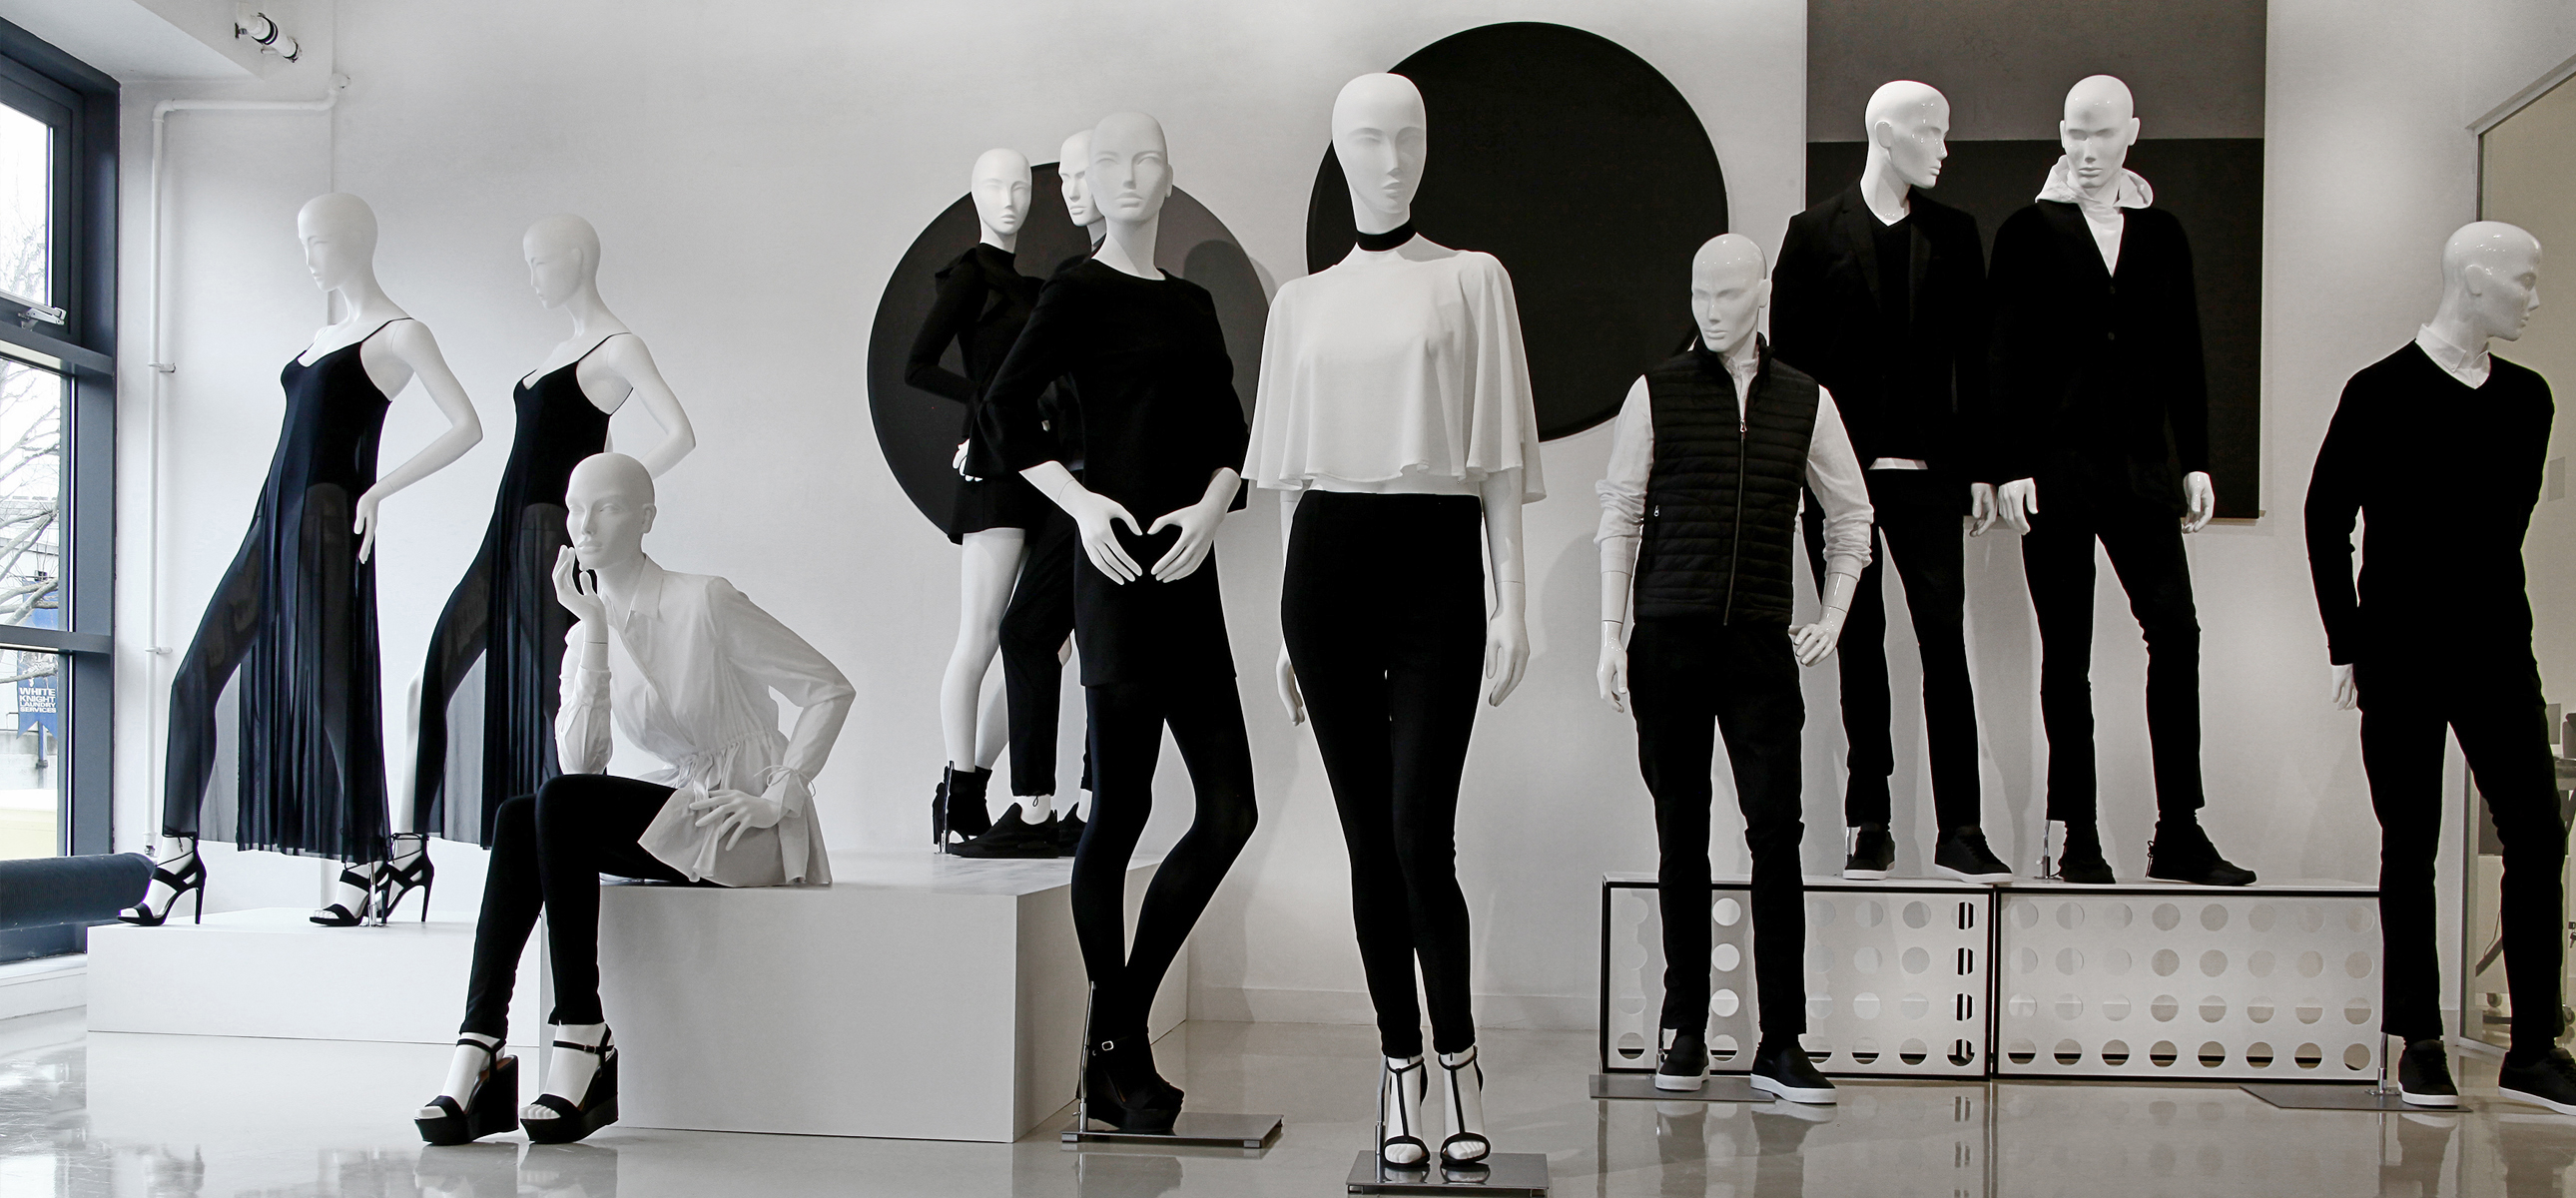person-like: (1228, 54, 1545, 1176), (405, 442, 863, 1154), (969, 88, 1276, 1139), (108, 178, 490, 941), (1582, 219, 1899, 1117), (2293, 212, 2576, 1117), (1977, 62, 2265, 896), (381, 204, 701, 919), (1764, 65, 2016, 885), (900, 139, 1047, 850), (1045, 114, 1112, 262)
